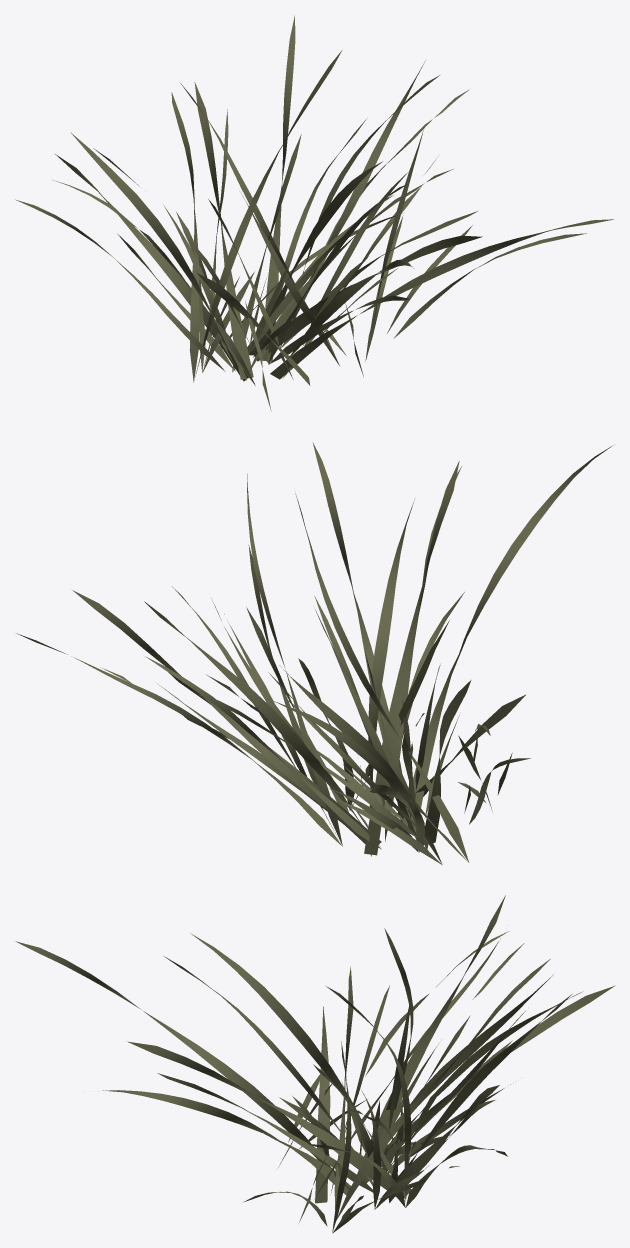
File: grass1.fbx
3 renders of one model, top to bottom at view 1: azimuth 30°, elevation 25°; view 2: azimuth 150°, elevation 25°; view 3: azimuth 270°, elevation 25°, orthographic. The views are drawn at different scales.
Parts seen in each view (by area): view 1: grassClump10Main; view 2: grassClump10Main; view 3: grassClump10Main.
Part boxes in pixels (x1=…): grassClump10Main: x1=15, y1=15, x2=614, y2=410; grassClump10Main: x1=16, y1=442, x2=613, y2=864; grassClump10Main: x1=15, y1=895, x2=615, y2=1233.
Bounding box in the file's own units: 1.13 × 0.7091 × 1.24.
